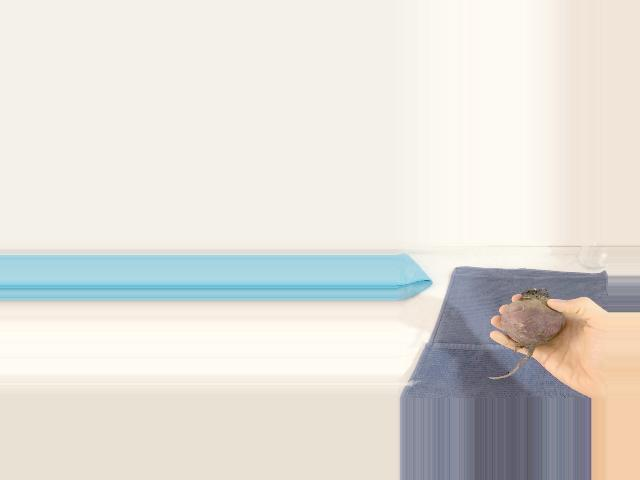beet: (486, 288, 565, 379)
